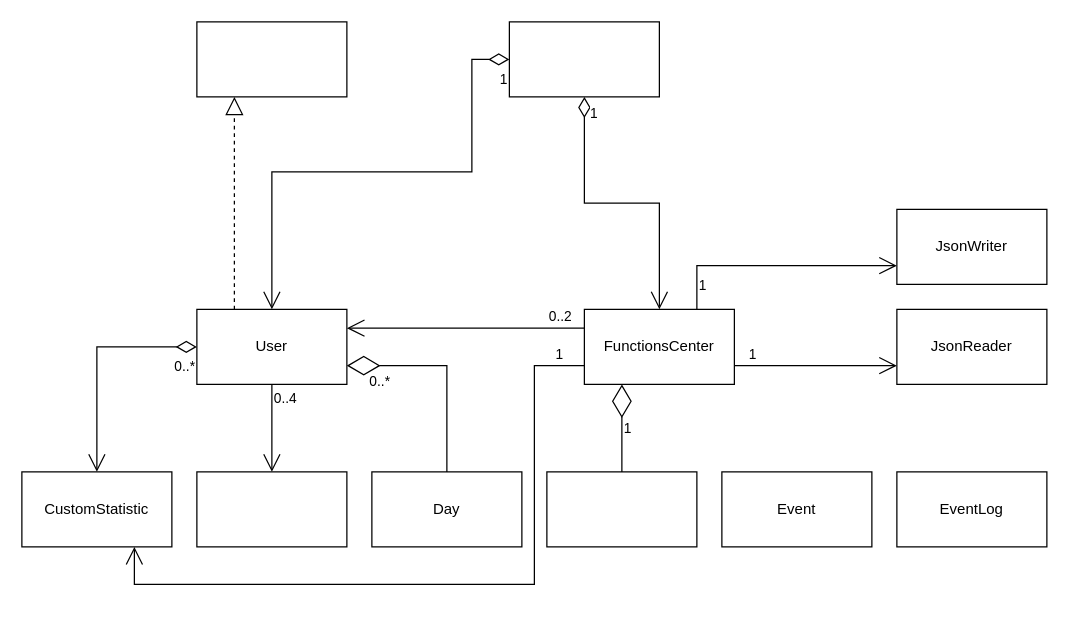
Some shapes in this 1069 by 624 pixel diagram are drawn without their labels. Each missing label, with the box of its shape:
Exercise: (196, 471, 347, 547)
FITrack: (508, 21, 659, 97)
ViewChangeInformation: (546, 471, 697, 547)
«interface» Writable: (196, 21, 347, 97)
